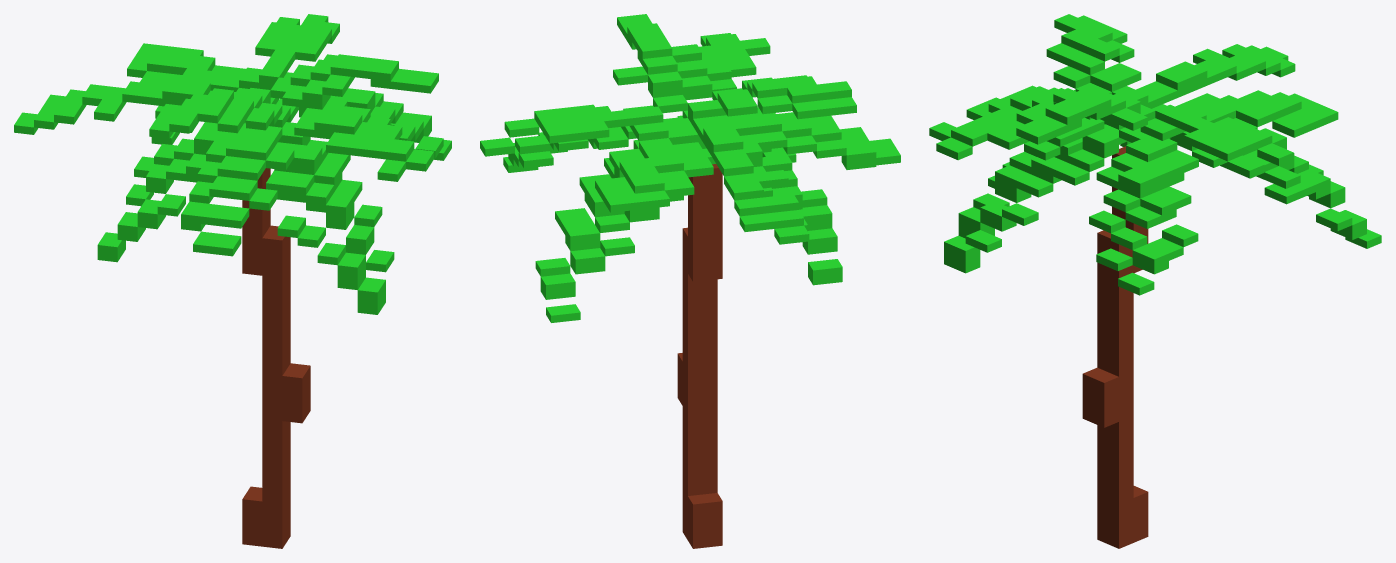
Rendered from Palm_Tree.fbx.
The picture shows the model from 3 angles, left to right: view 1: azimuth 30°, elevation 25°; view 2: azimuth 150°, elevation 25°; view 3: azimuth 270°, elevation 25°; orthographic projection.
Visible parts, largest first — view 1: palm tree; view 2: palm tree; view 3: palm tree.
Boxes of the visible parts, left/top/right/bottom form: palm tree: left=14, top=14, right=451, bottom=548; palm tree: left=480, top=14, right=900, bottom=548; palm tree: left=929, top=14, right=1381, bottom=548.
Size of the model in its own units: 84.4 by 102 by 88.87.
